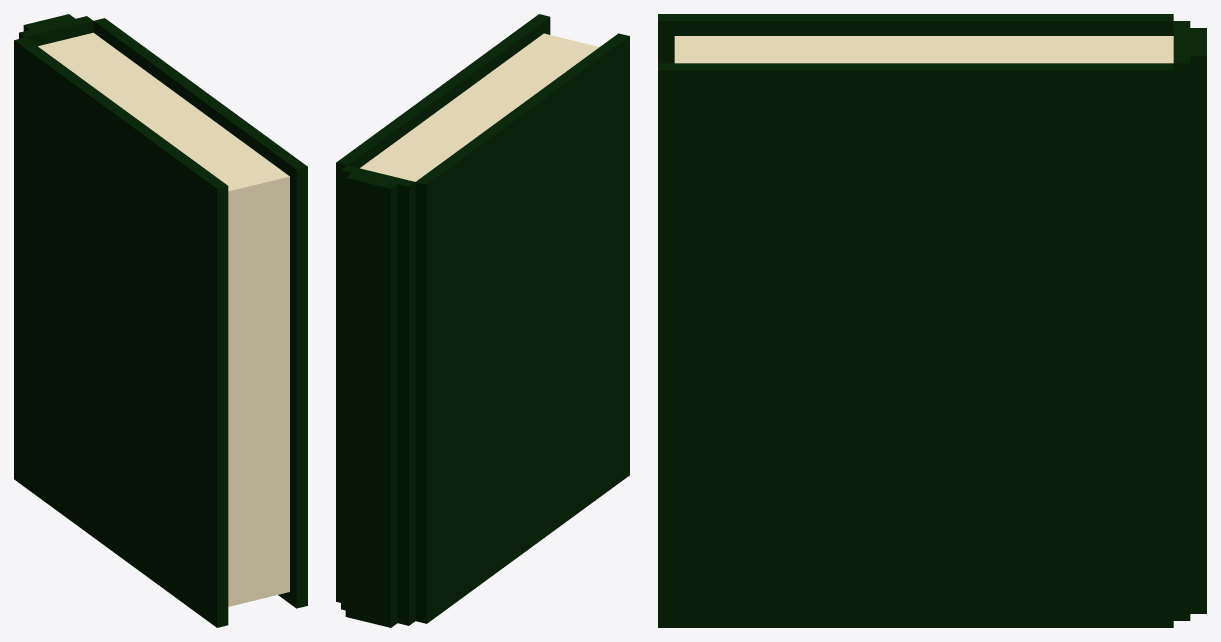
The model's file is Book2.obj.
The picture shows the model from 3 angles, left to right: view 1: azimuth 30°, elevation 25°; view 2: azimuth 150°, elevation 25°; view 3: azimuth 270°, elevation 25°; orthographic projection. The views are drawn at different scales.
Visible parts, largest first — view 1: Book2; view 2: Book2; view 3: Book2.
Part boxes in pixels (bbox=[...]): Book2: bbox=[14, 14, 307, 627]; Book2: bbox=[336, 14, 629, 627]; Book2: bbox=[658, 14, 1206, 627].
Size of the model in its own units: 8 by 37 by 33.
1 material, 1 textured.
